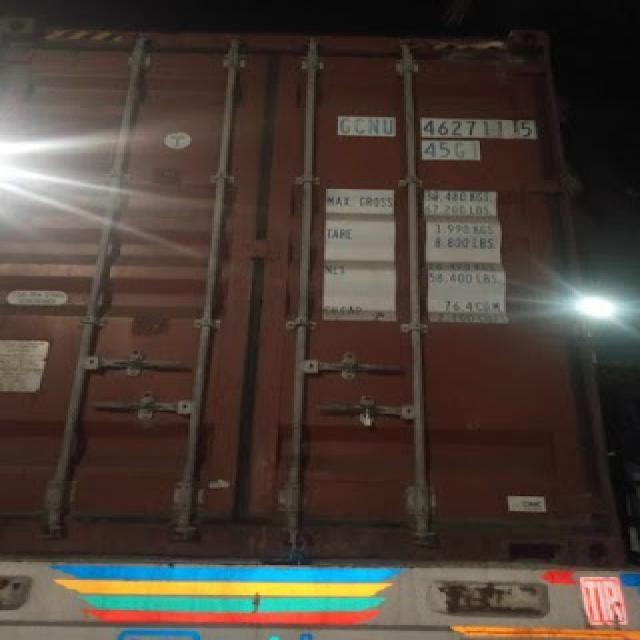ISO: (422, 142, 484, 163)
container_number: (343, 116, 534, 140)
